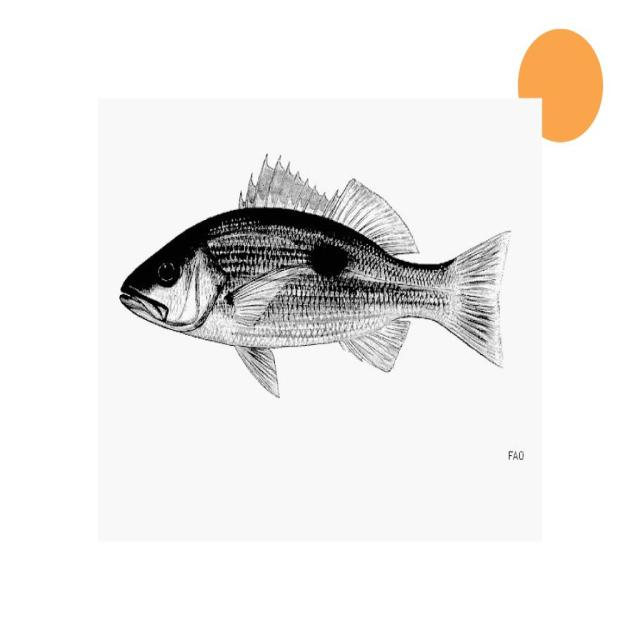ikan: (118, 152, 511, 398)
